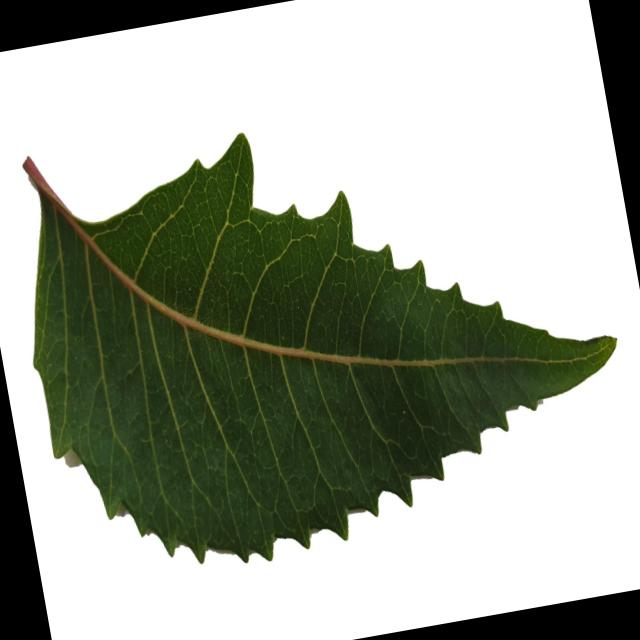Medicinal-Neem: (0, 55, 640, 593)
